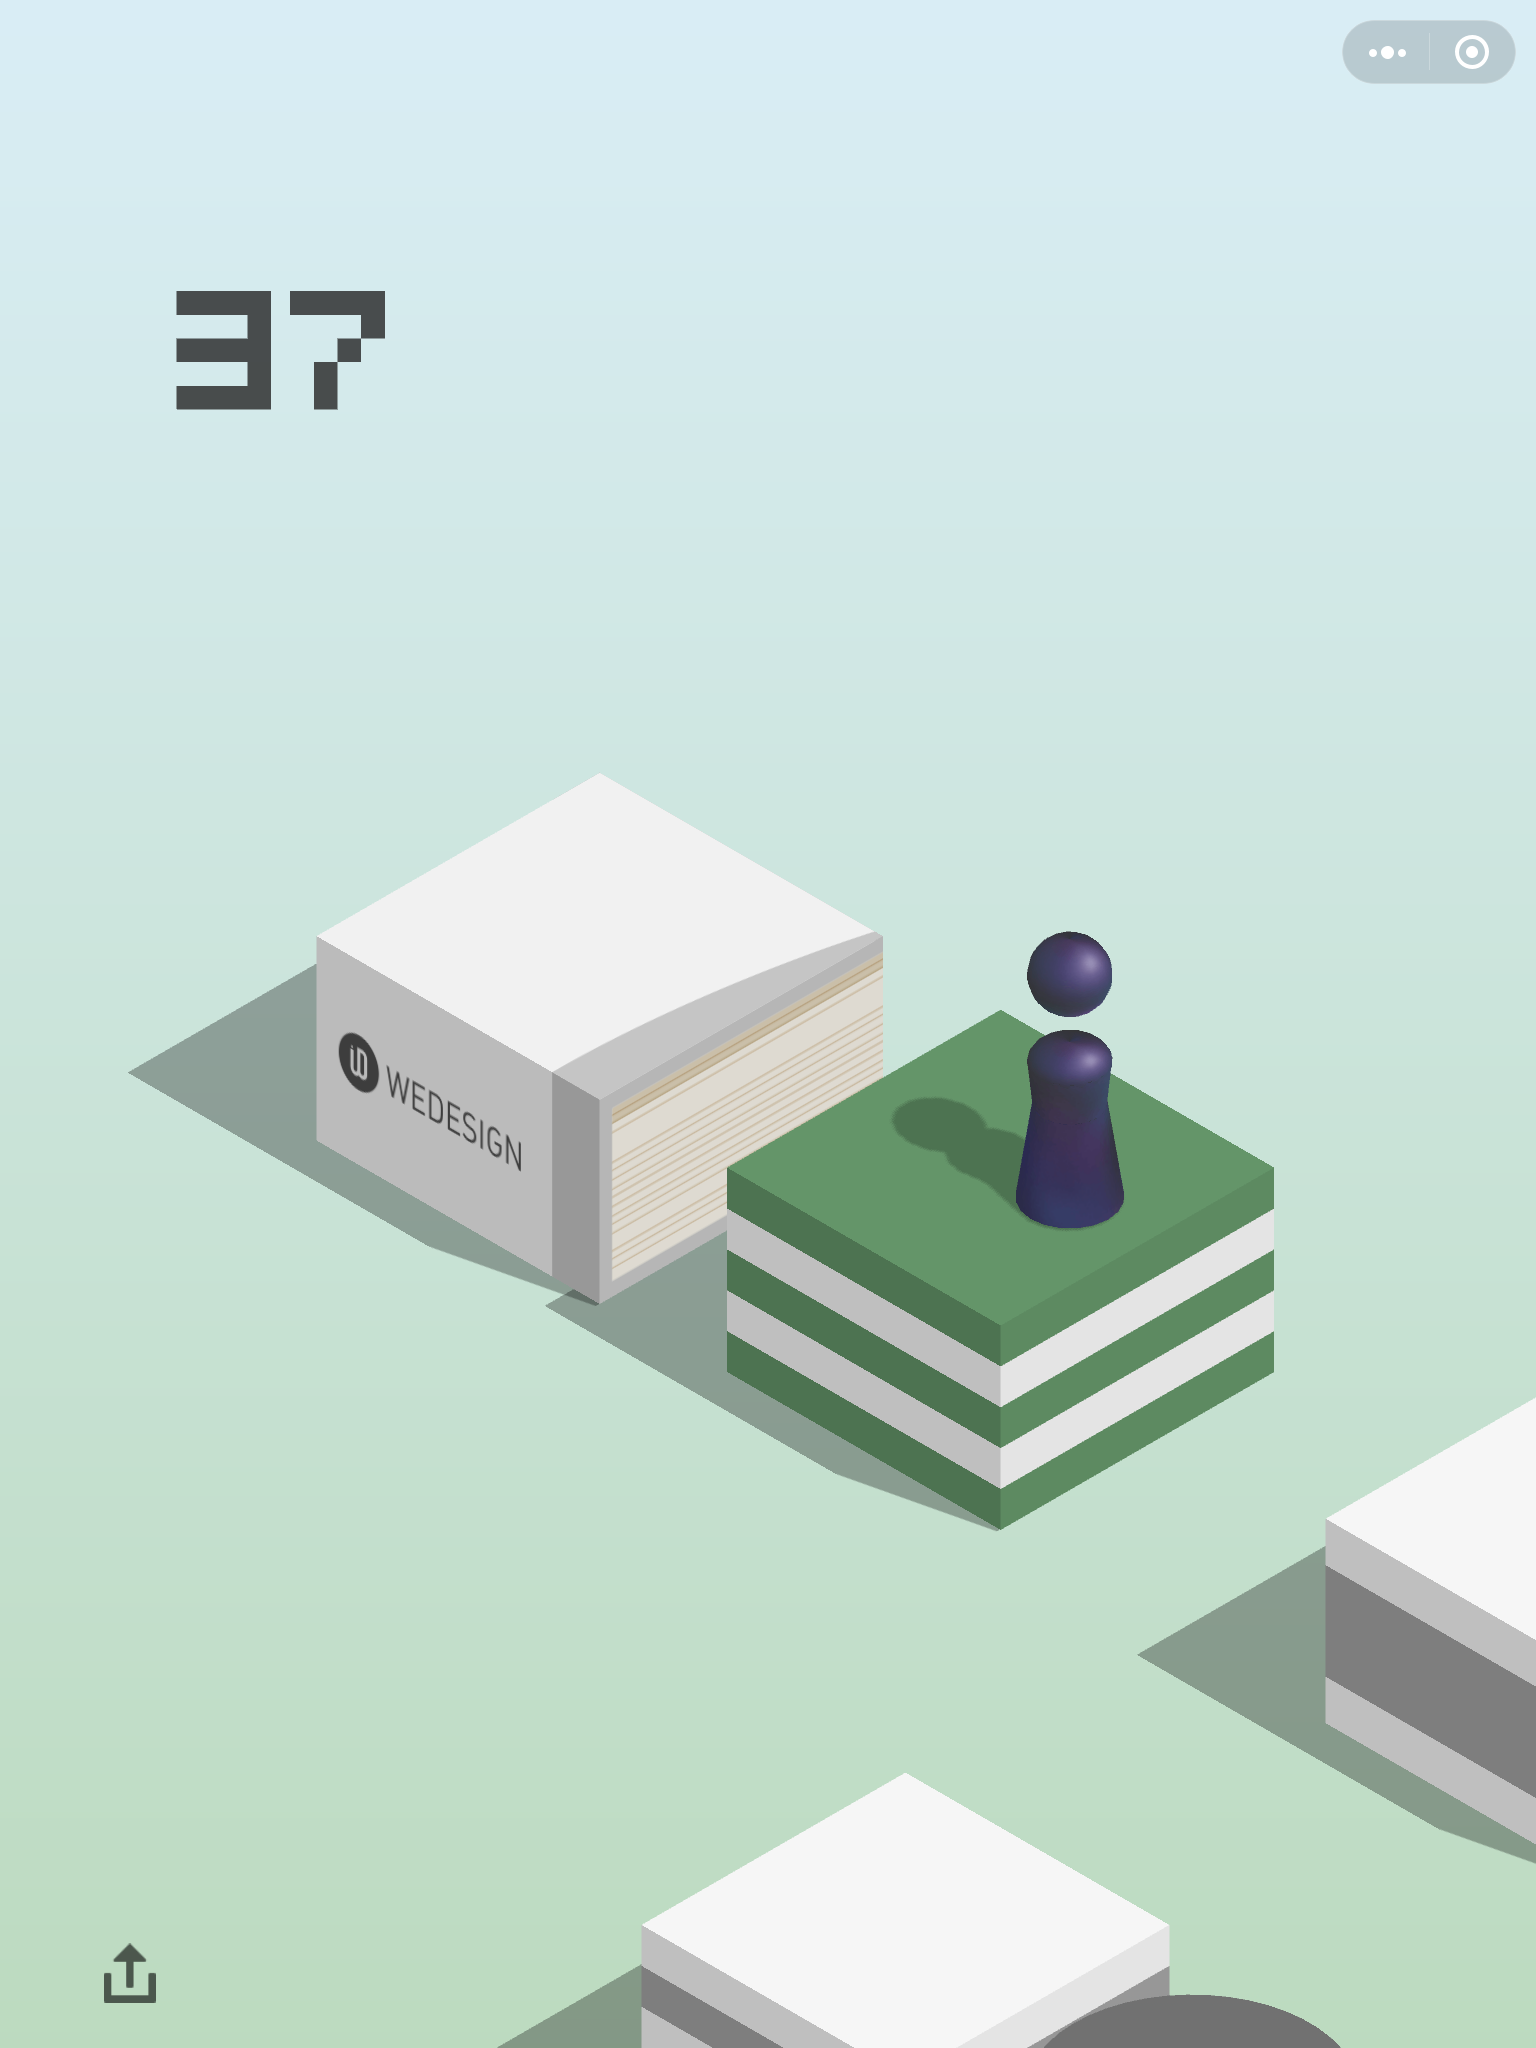f: (307, 766, 892, 1313), (721, 1006, 1281, 1538), (632, 1764, 1178, 2048), (1318, 1376, 1536, 1853)
r: (1012, 926, 1129, 1232)
